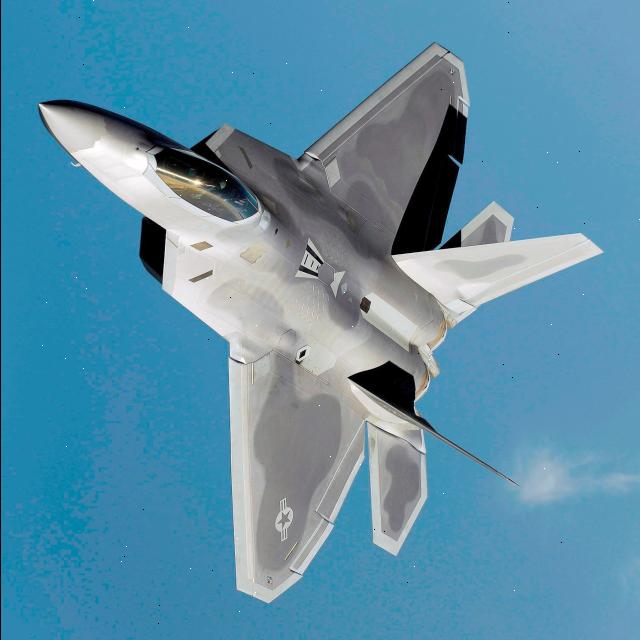F22: (11, 14, 618, 618)
